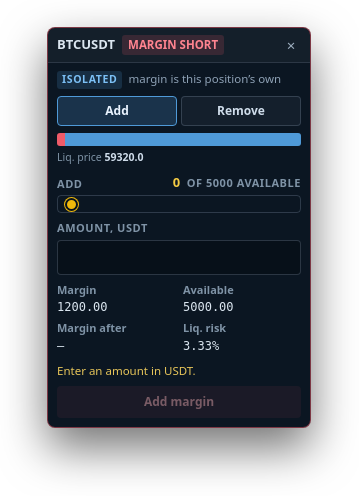
Test case: FuturesPositionMarginEditor › pushes a short position’s liquidation price up when margin is added
This screenshot has width=359, height=496.
Type "250" into the field named "Margin amount in USDT" at (179, 257), box x1=57 y1=240 x2=301 y2=274
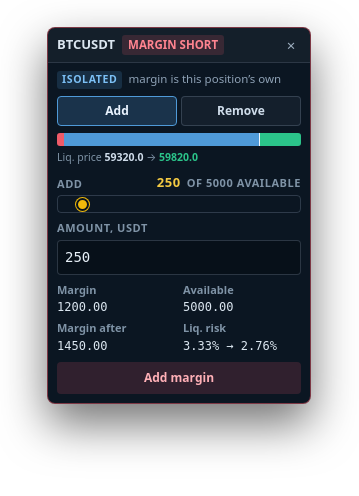
Now the form named "Adjust BTCUSDT SHORT position margin" shows "Liq. price 59320.0 → 59820.0", box x1=47 y1=27 x2=311 y2=404
